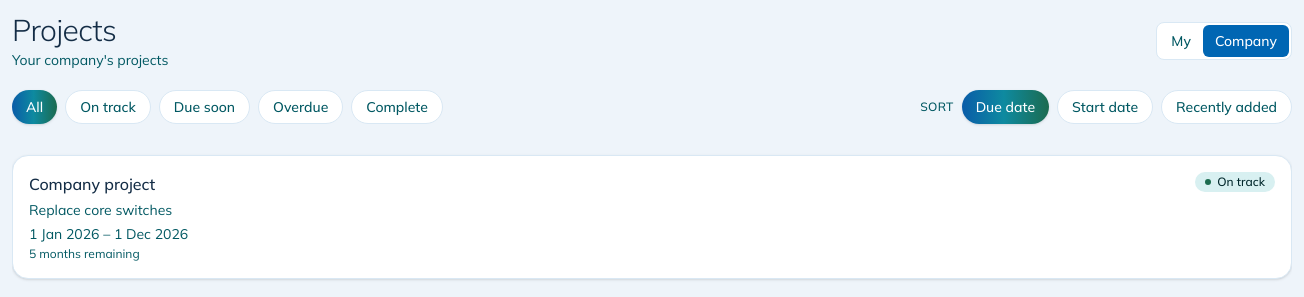
ProjectsPage › switches to the My tier and refetches from the me scope
The width and height of the screenshot is (1304, 297).
expect the text "Company project" is shown: met, box [29,174,155,194]
Click the tab "My".
click(1181, 41)  # box [1159,25,1203,57]
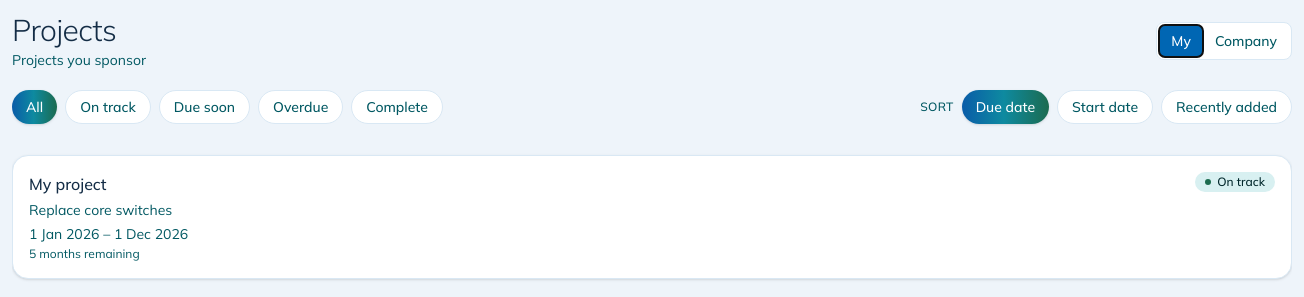
expect the text "My project" is shown: met, box [29,174,106,194]
expect the text "Projects you sponsor" is shown: met, box [12,50,146,70]
